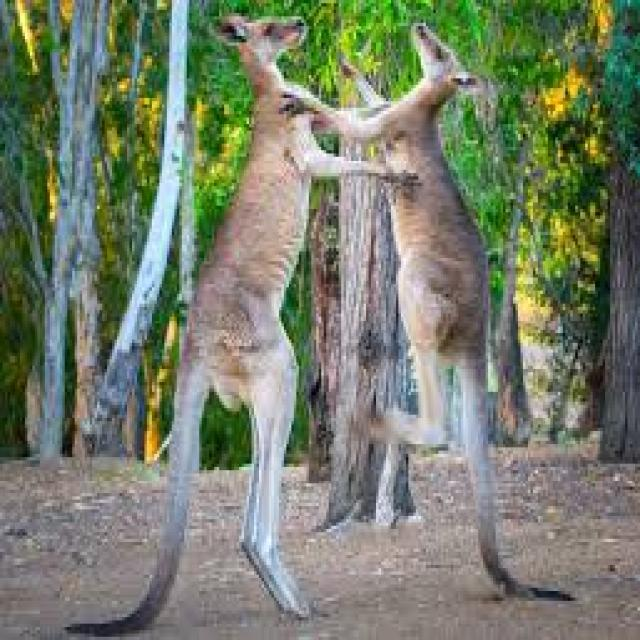Kangaroo: (59, 12, 420, 640), (282, 16, 584, 613)
